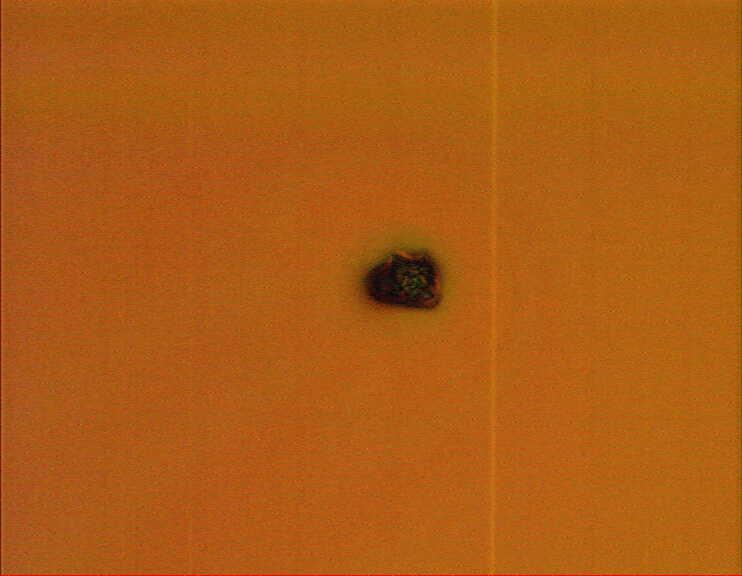PIQ PARTICLE: (338, 230, 460, 330)
